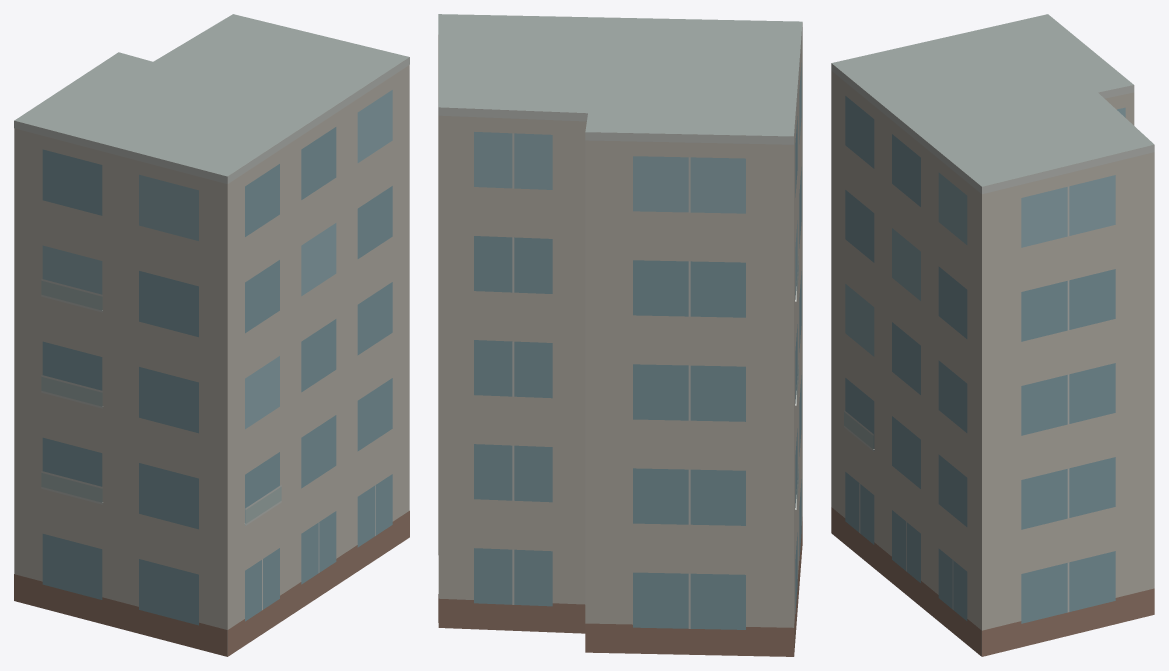
Rendered from survey-upis-32721951.glb.
The picture shows the model from 3 angles, left to right: view 1: azimuth 30°, elevation 25°; view 2: azimuth 150°, elevation 25°; view 3: azimuth 270°, elevation 25°; orthographic projection. The views are drawn at different scales.
Parts seen in each view (by area): view 1: survey-upis-32721951.tmp; view 2: survey-upis-32721951.tmp; view 3: survey-upis-32721951.tmp.
Part boxes in pixels (bbox=[...]): survey-upis-32721951.tmp: bbox=[14, 14, 409, 656]; survey-upis-32721951.tmp: bbox=[438, 14, 802, 656]; survey-upis-32721951.tmp: bbox=[831, 14, 1154, 656].
Size of the model in its own units: 12.07 by 15.3 by 9.55.
